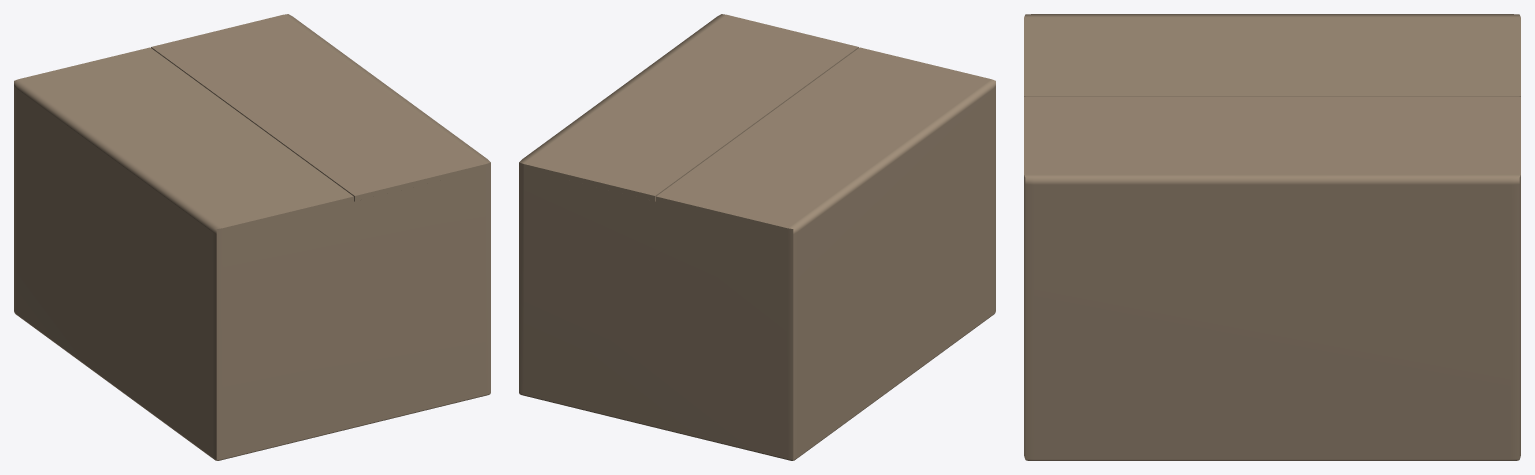
3 renders of one model, left to right at view 1: azimuth 30°, elevation 25°; view 2: azimuth 150°, elevation 25°; view 3: azimuth 270°, elevation 25°, orthographic. The views are drawn at different scales.
Visible parts, largest first — view 1: Box05; view 2: Box05; view 3: Box05.
Boxes of the visible parts, box(x1,y1,x2,y2) form: Box05: box(14, 14, 490, 460); Box05: box(519, 14, 995, 460); Box05: box(1024, 14, 1520, 460).
Bounding box in the file's own units: 0.5305 × 0.4282 × 0.6786.
